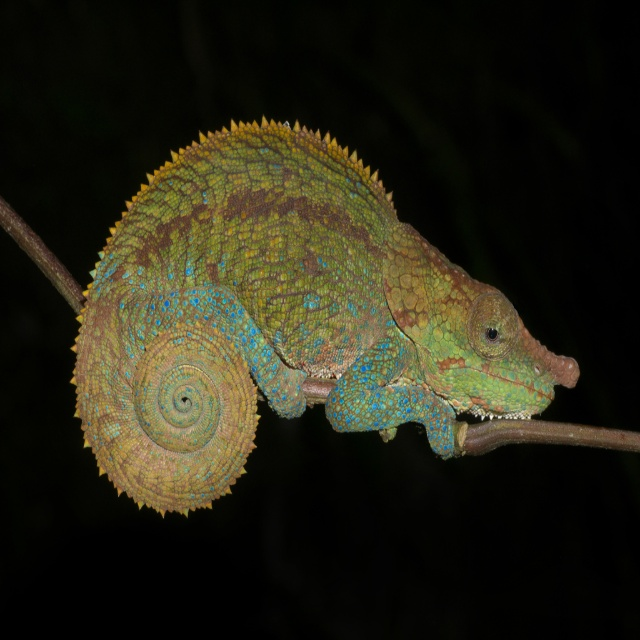Lizard: (68, 117, 580, 515)
